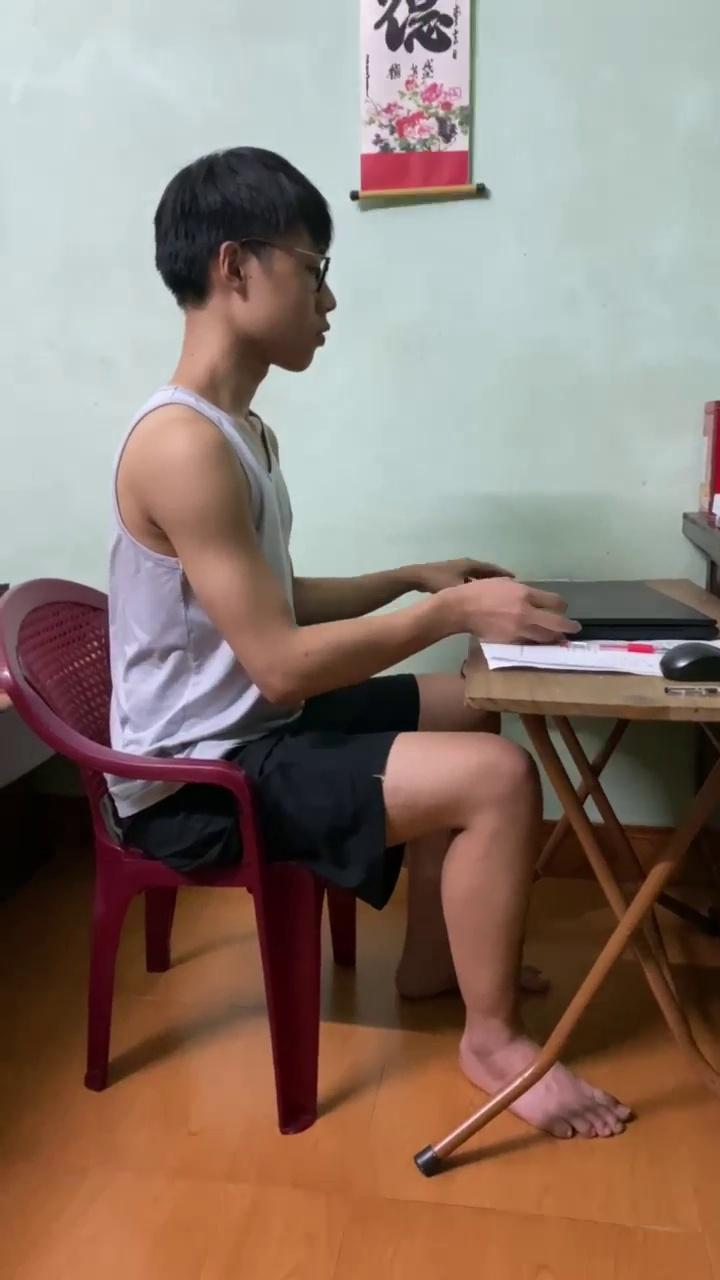GoodPosture: (108, 147, 575, 1092)
